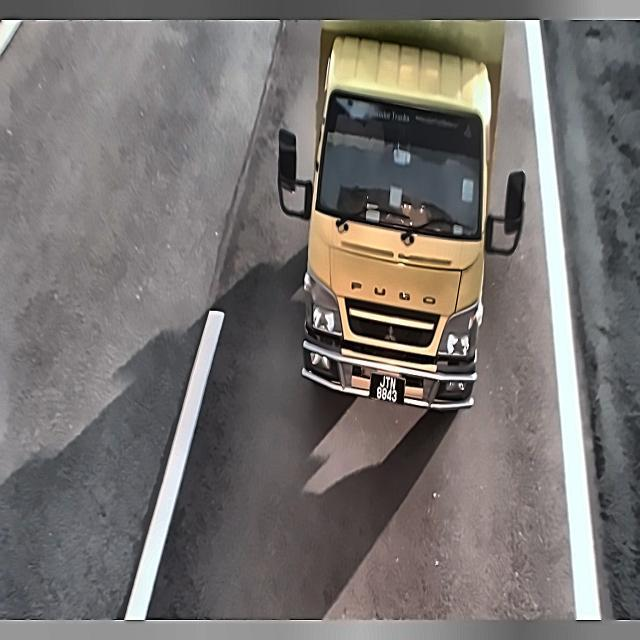car: (367, 367, 409, 409)
